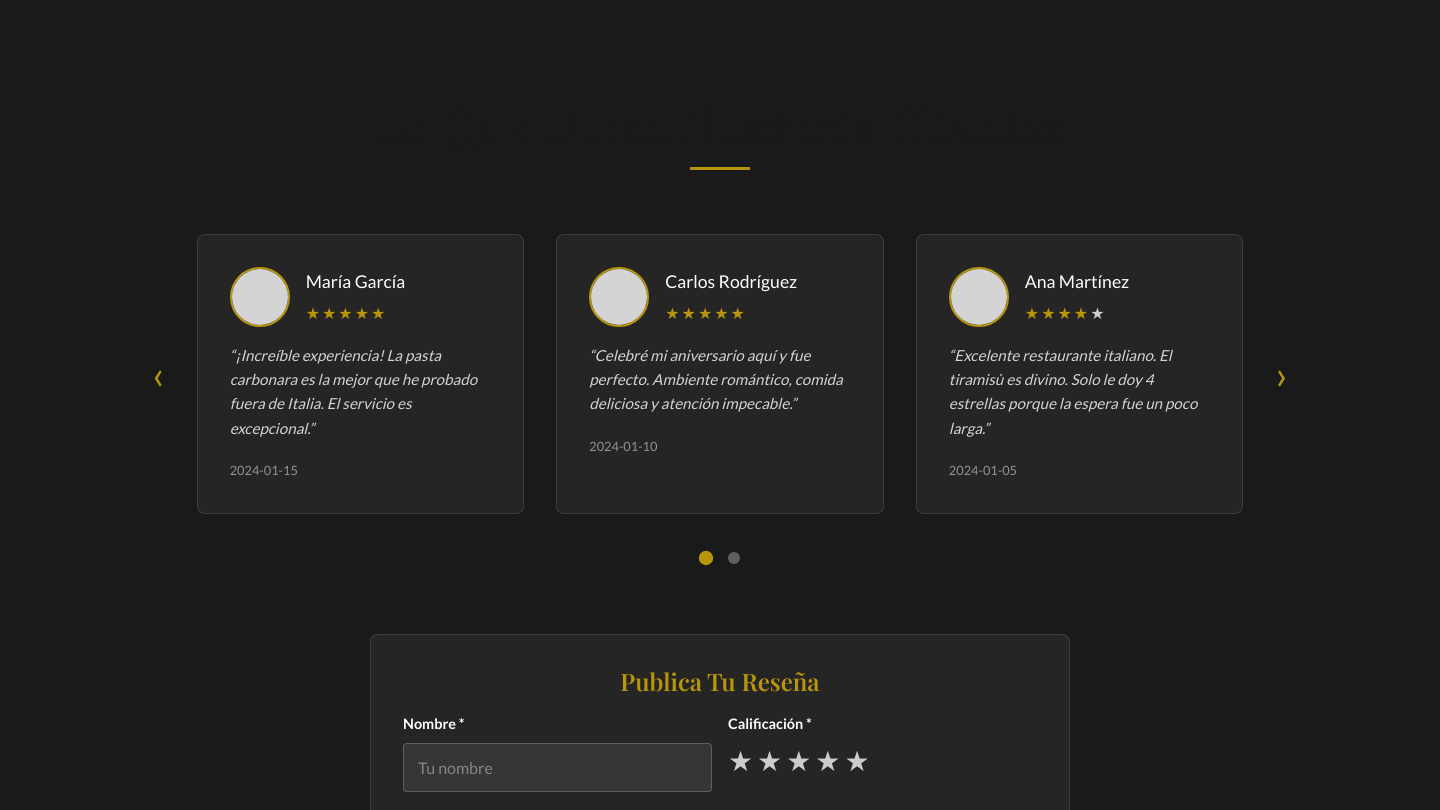
Test case: Reviews › publishes a review and shows it immediately on success
The image size is (1440, 810).
Type "Nuevo Cliente" into the field labelled "Nombre *". click: (558, 768)
box: [403,743,712,792]
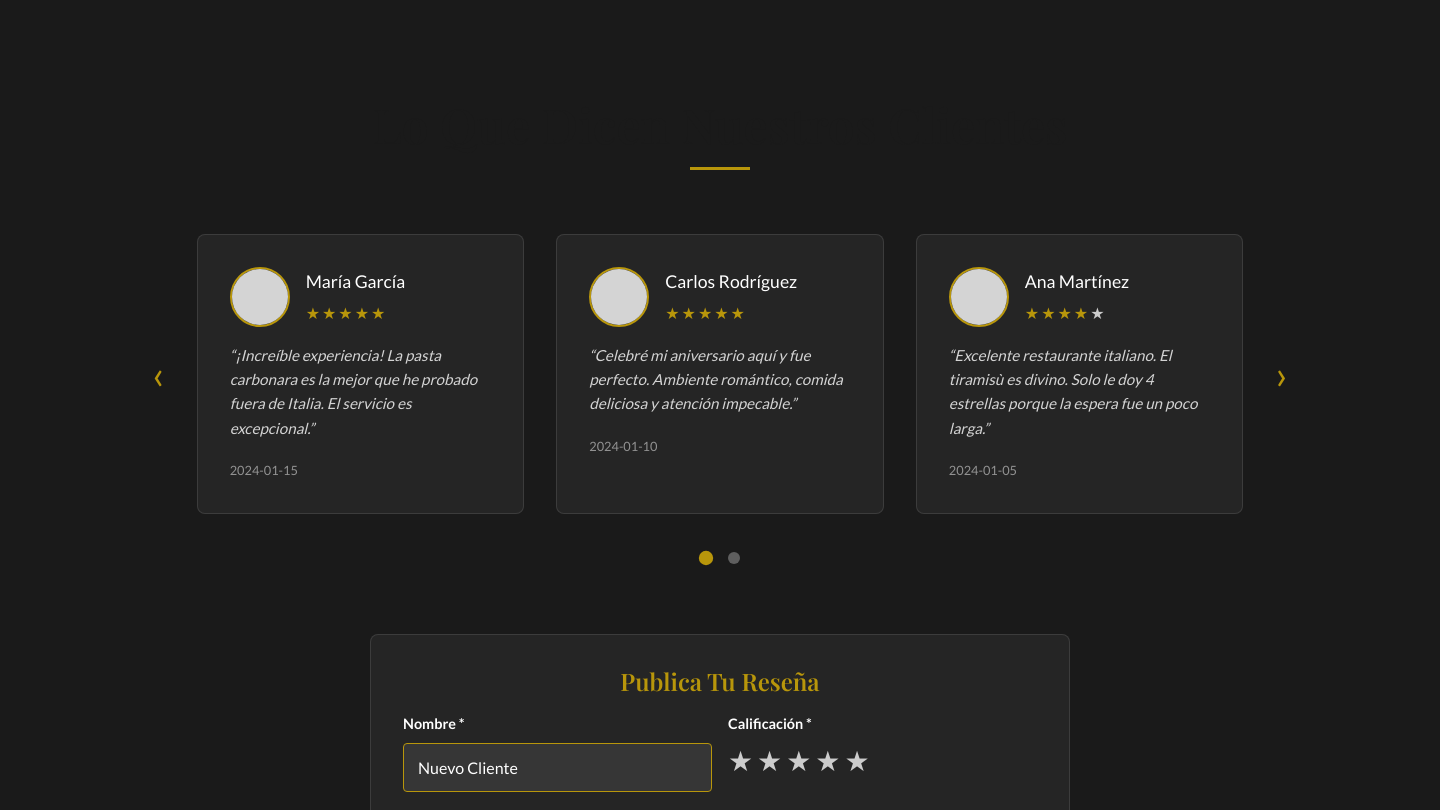
Click the button named "5 estrellas". click: (857, 761)
box: [844,743,870,778]
(page scrolled)
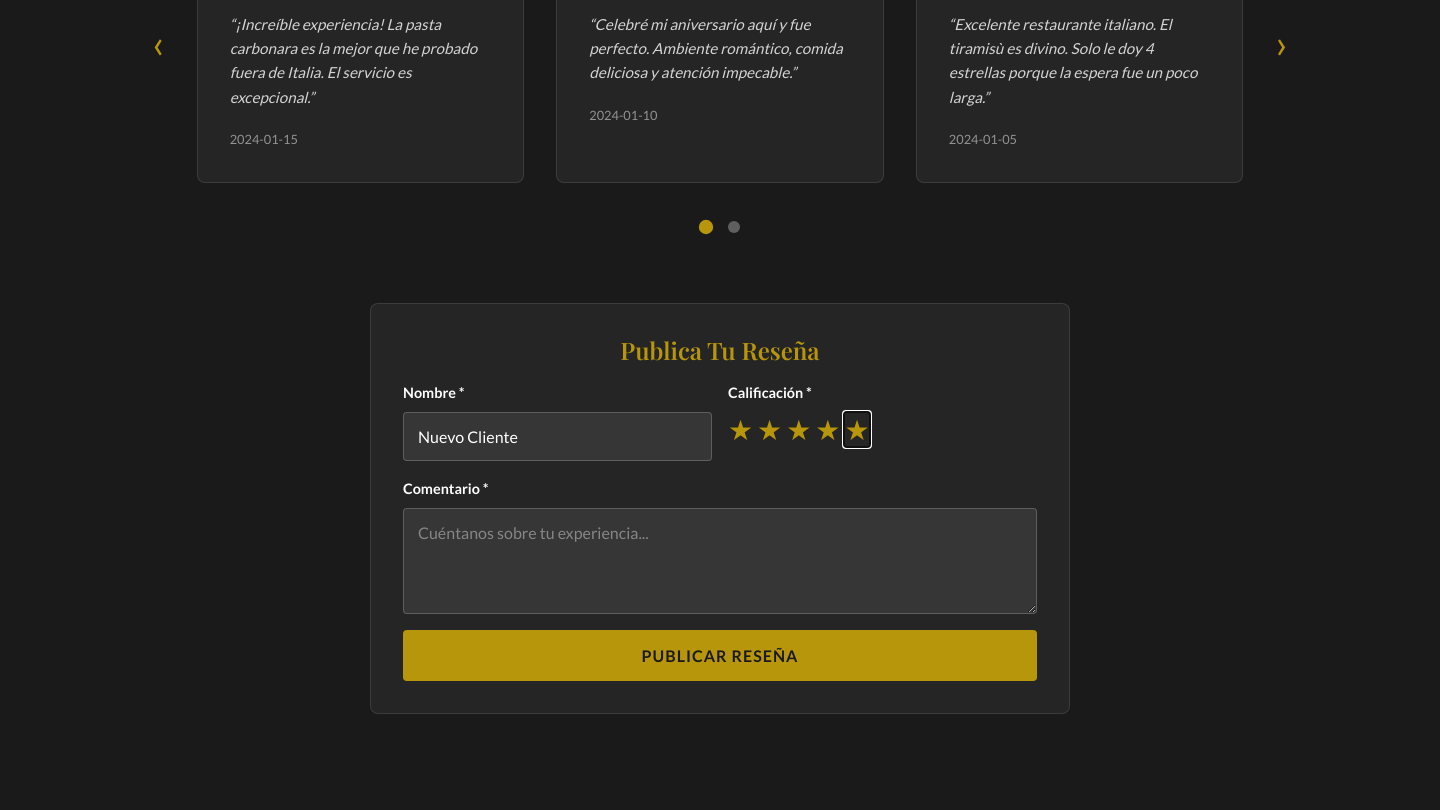
Type "Excelente restaurante, volveré pronto." into the text box labelled "Comentario *". click: (720, 561)
box: [403,508,1037,614]
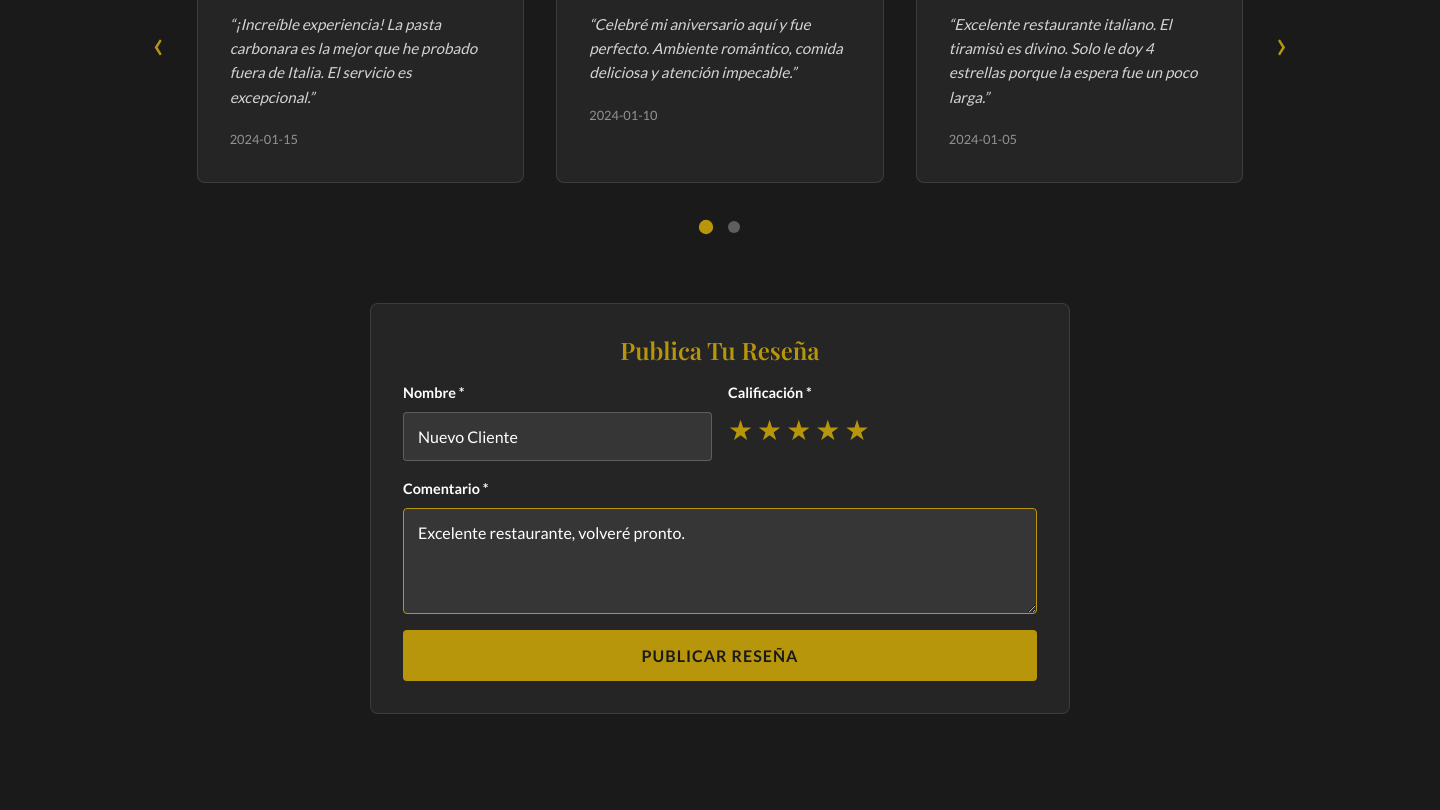
Click the button "Publicar Reseña". click: (720, 656)
box: [403,630,1037,681]
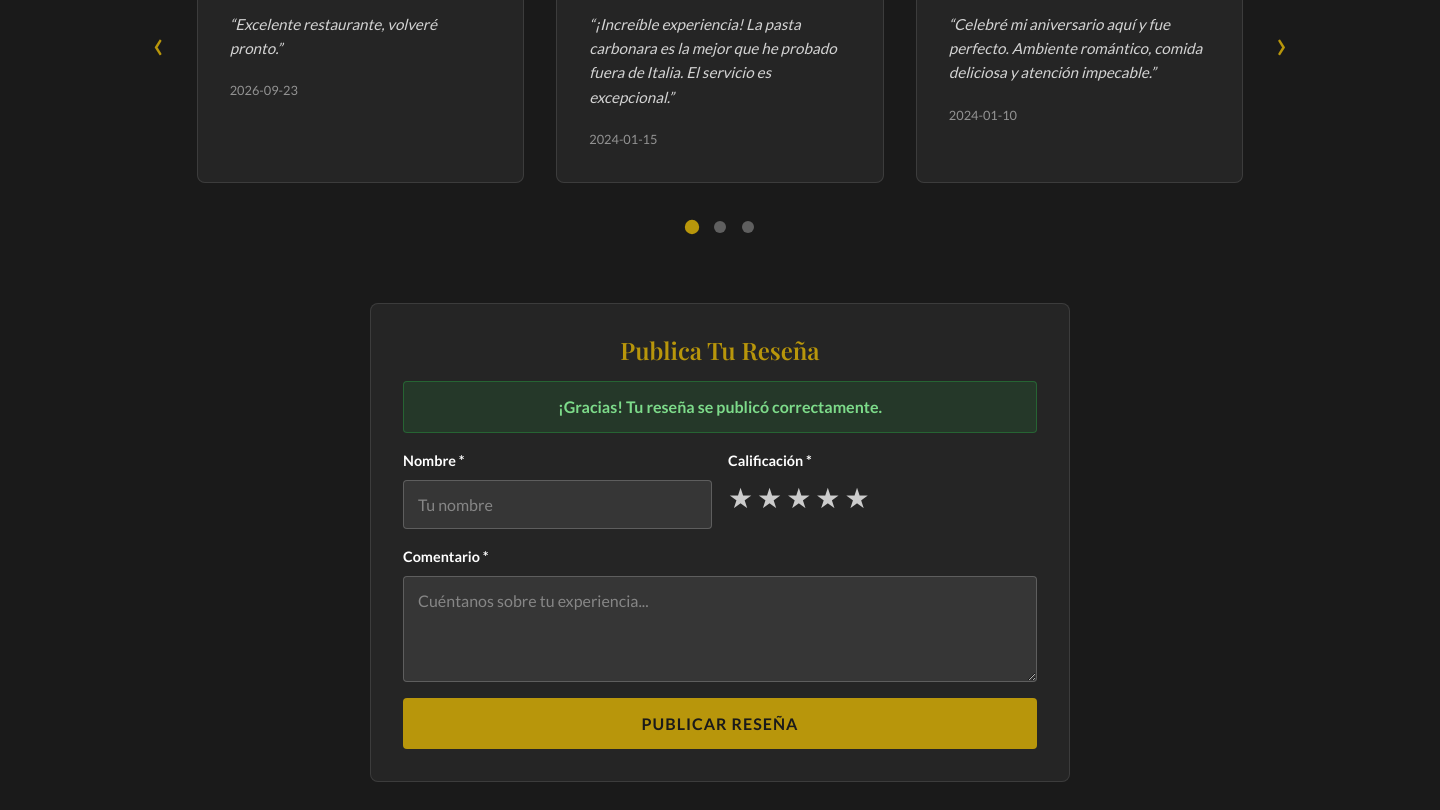
Expected: the text "¡Gracias! Tu reseña se publicó correctamente." is shown, [403,381,1037,433]
Expected: the text "“Excelente restaurante, volveré pronto.”" is shown, [230,15,437,57]
